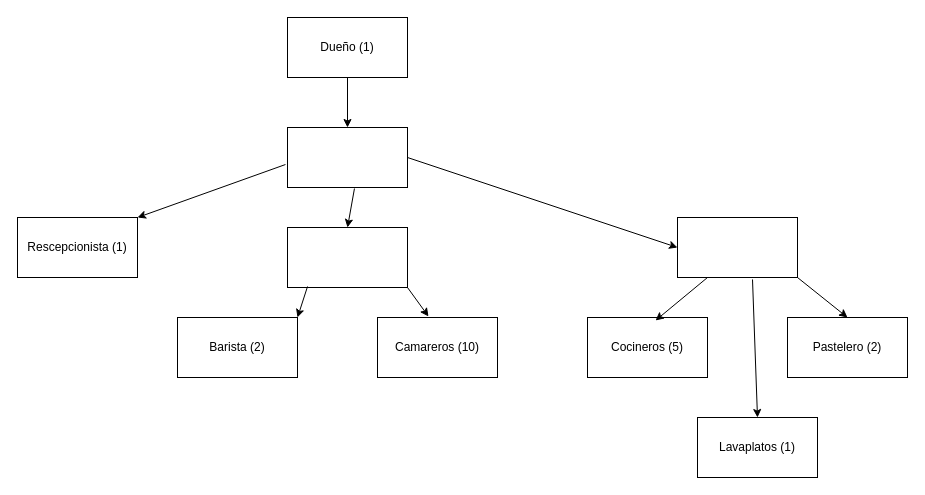
This 925x495 diagram has some shape labels left out. The centre of each missing label's shape, as x and y in pixels:
Engargado (1): (347,157)
Jefe de cocina (1): (737,247)
Metre (2): (347,257)
